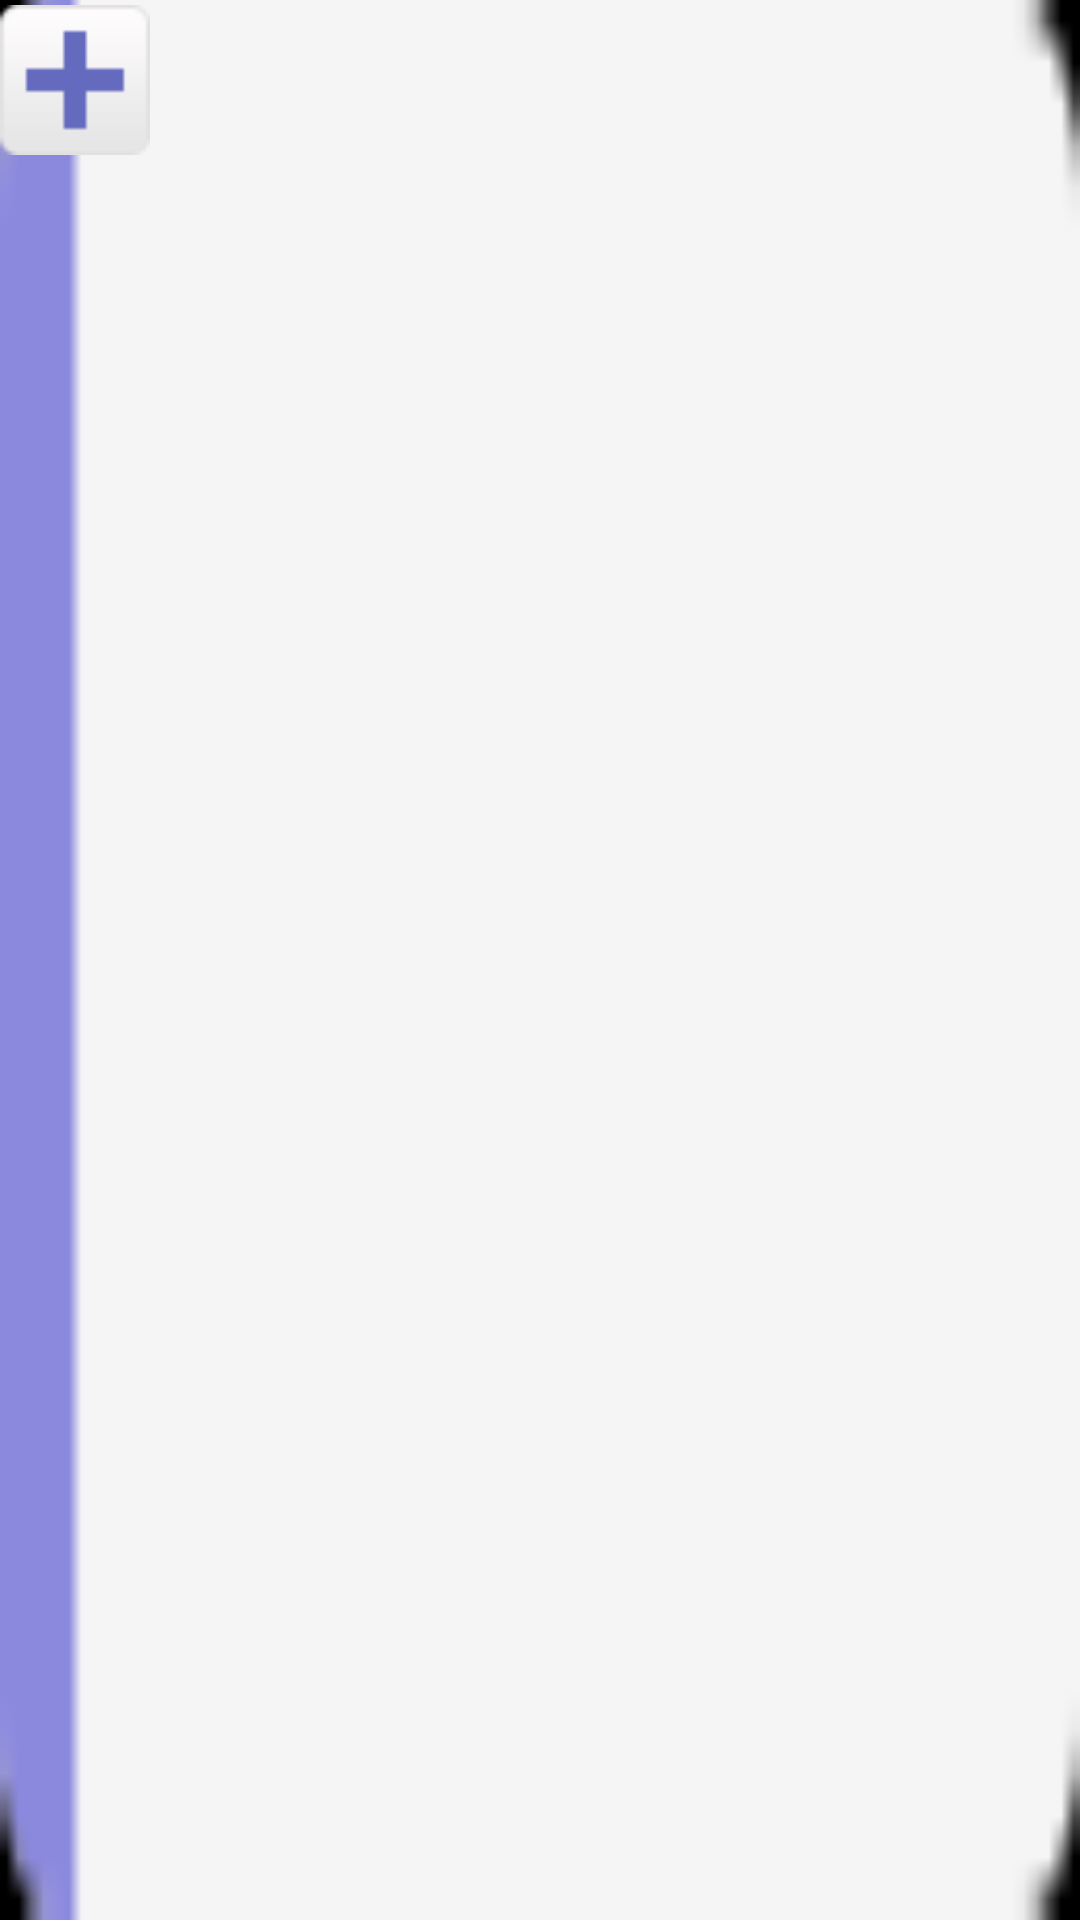

Icon click points for this 1080×1920 phone screenshot, format (x,y):
jia: (62,65)
